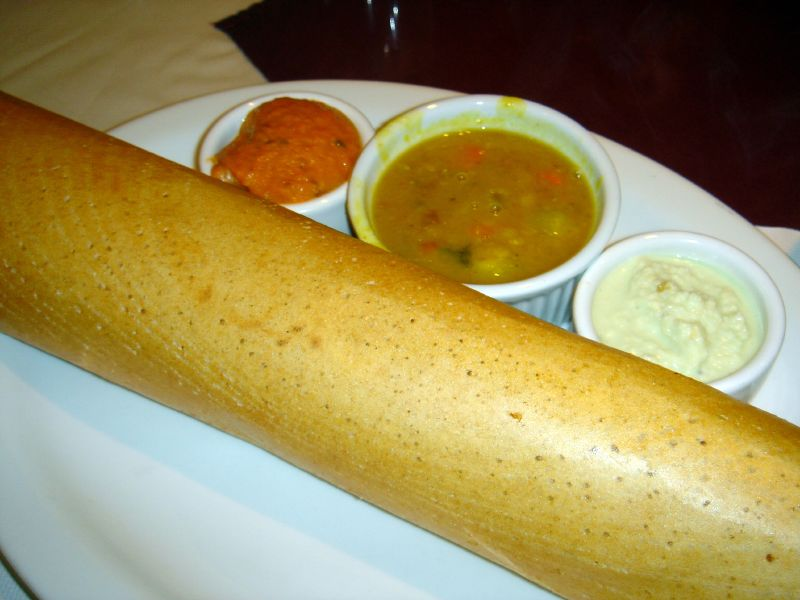dosa: (1, 84, 798, 600)
